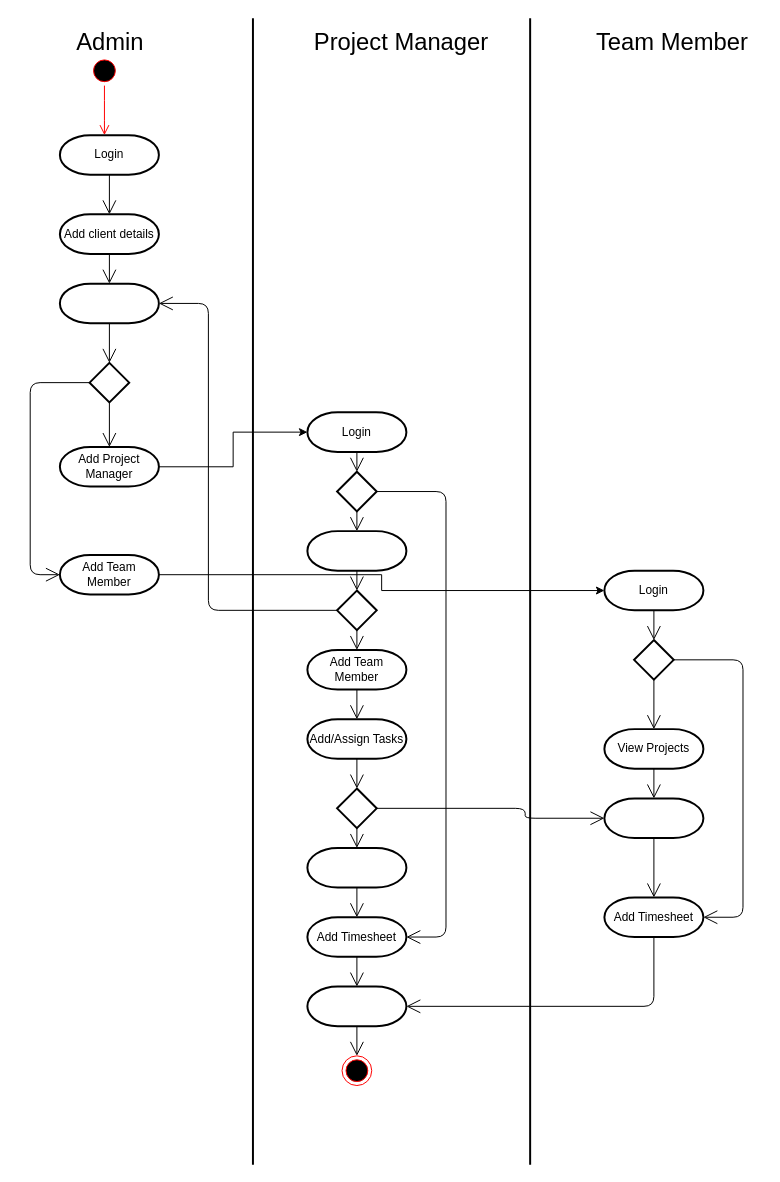
This 780x1182 diagram has some shape labels left out. The box of each missing label's shape, as (x1, y1, x2, y2) in pixels:
Add Project: (306, 530, 407, 571)
Add Template: (306, 846, 407, 888)
View client details: (58, 282, 159, 324)
View Task: (603, 797, 704, 839)
View/Approve Timesheet: (306, 985, 407, 1027)
